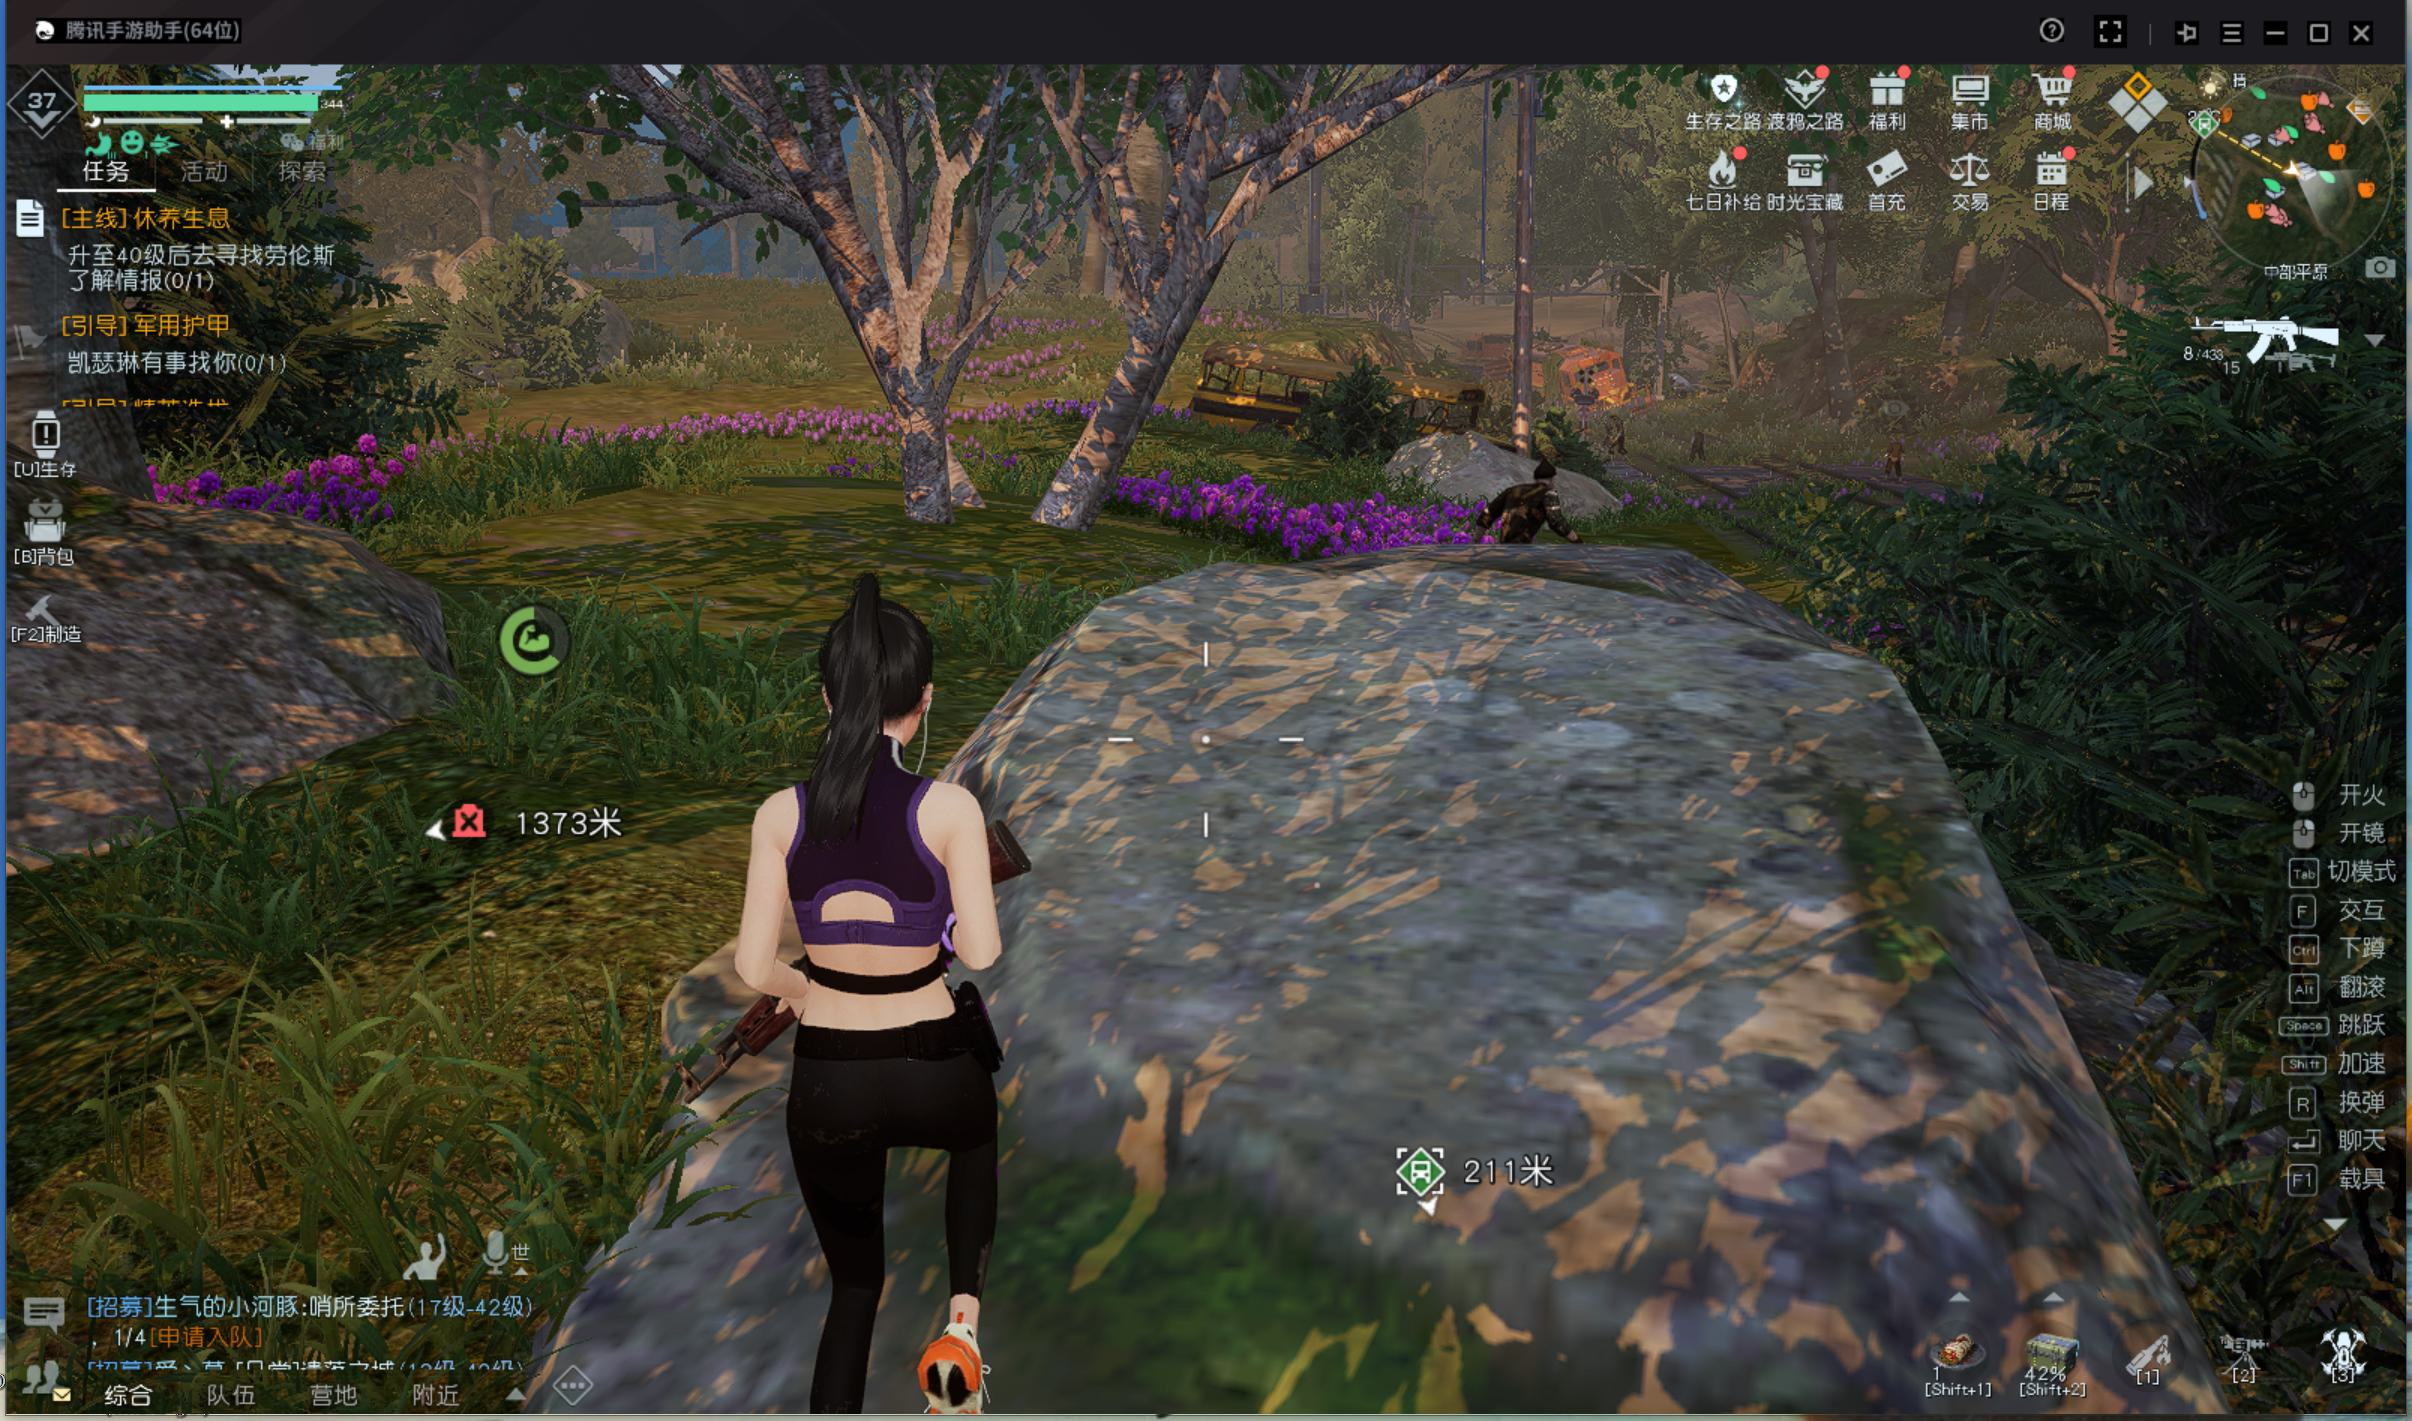tree: (1812, 266, 1866, 436), (1927, 255, 1981, 398)
